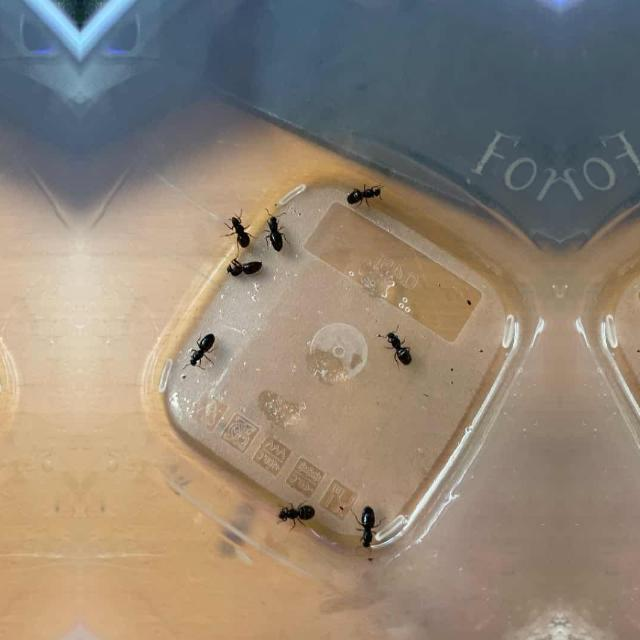Lasius: (274, 497, 324, 533), (180, 334, 226, 371), (377, 326, 413, 368), (341, 174, 383, 208), (354, 500, 381, 552), (262, 208, 288, 254), (224, 213, 252, 247), (222, 256, 268, 276)
